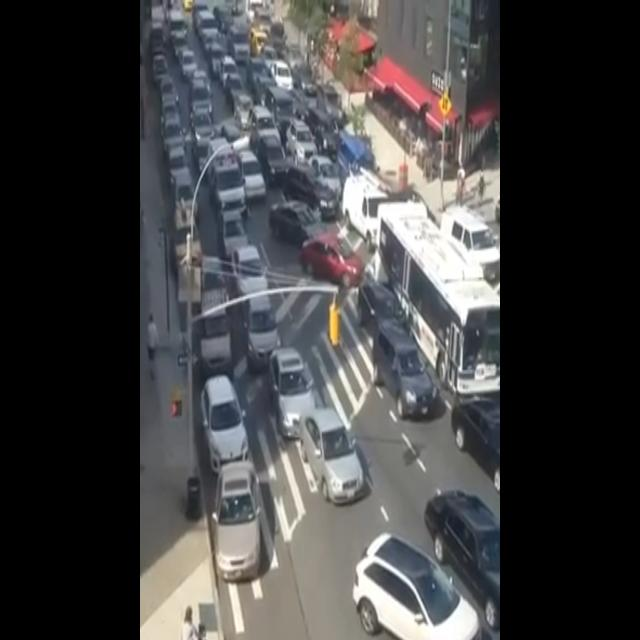Ambulance: (202, 128, 250, 219)
